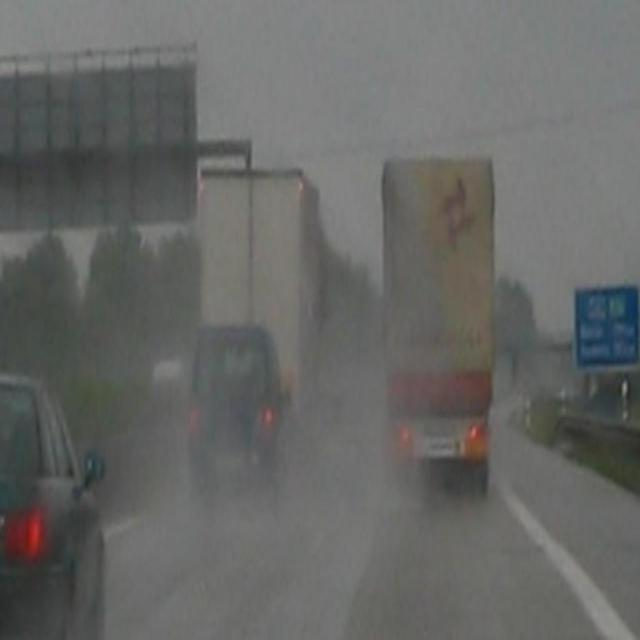Car: (0, 379, 108, 640)
Truck: (386, 156, 495, 504), (200, 164, 321, 428)
Van: (189, 328, 292, 498)
